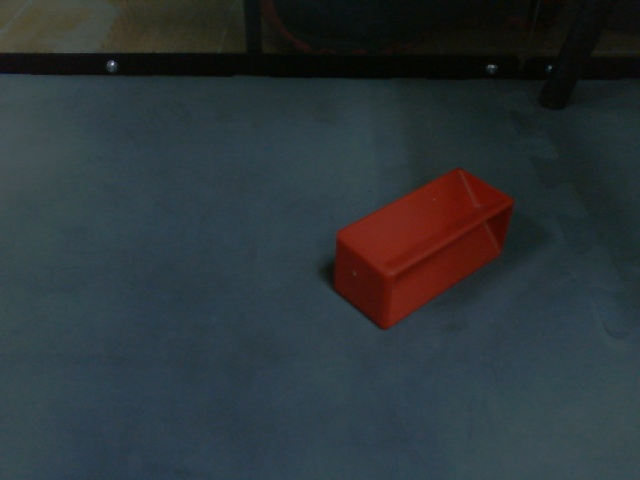RedSample: (329, 165, 519, 335)
